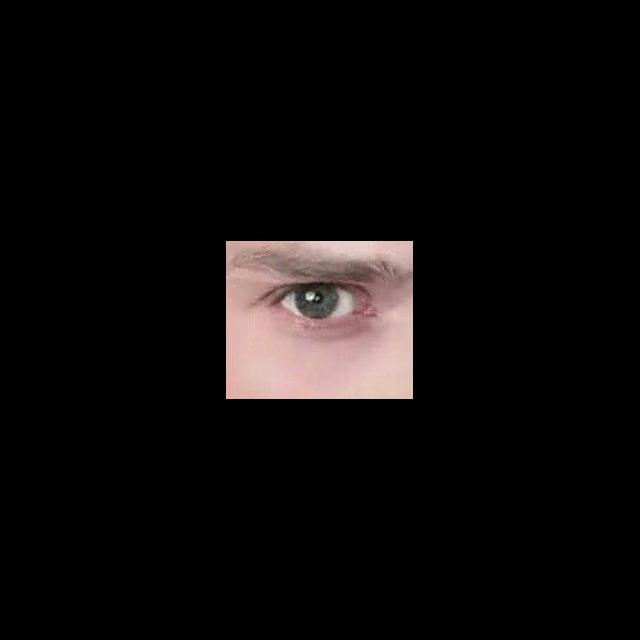eye: (280, 284, 354, 321)
iris: (295, 285, 339, 319)
